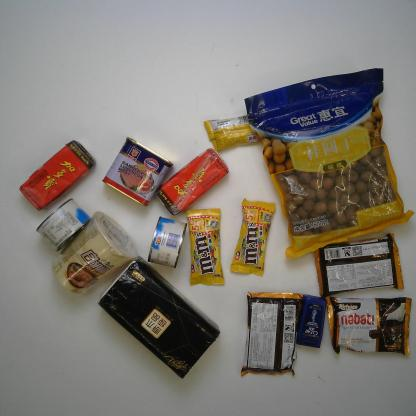Canned Food: (101, 135, 175, 207), (36, 197, 94, 253), (146, 217, 188, 269)
Chocolate: (229, 197, 276, 277), (203, 112, 282, 152), (186, 208, 226, 287)
Dessert: (314, 232, 404, 298), (240, 290, 304, 377), (325, 294, 412, 357)
Dried Food: (244, 68, 416, 259)
Drink: (18, 140, 97, 212), (155, 146, 230, 216)
Instant Noodles: (49, 210, 139, 297)
Personal Hygiene: (296, 294, 327, 349)
Tissue: (97, 255, 221, 379)
